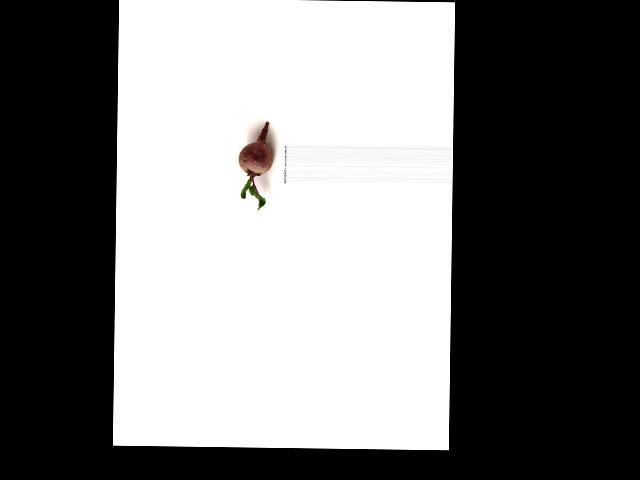beet: (238, 122, 273, 210)
